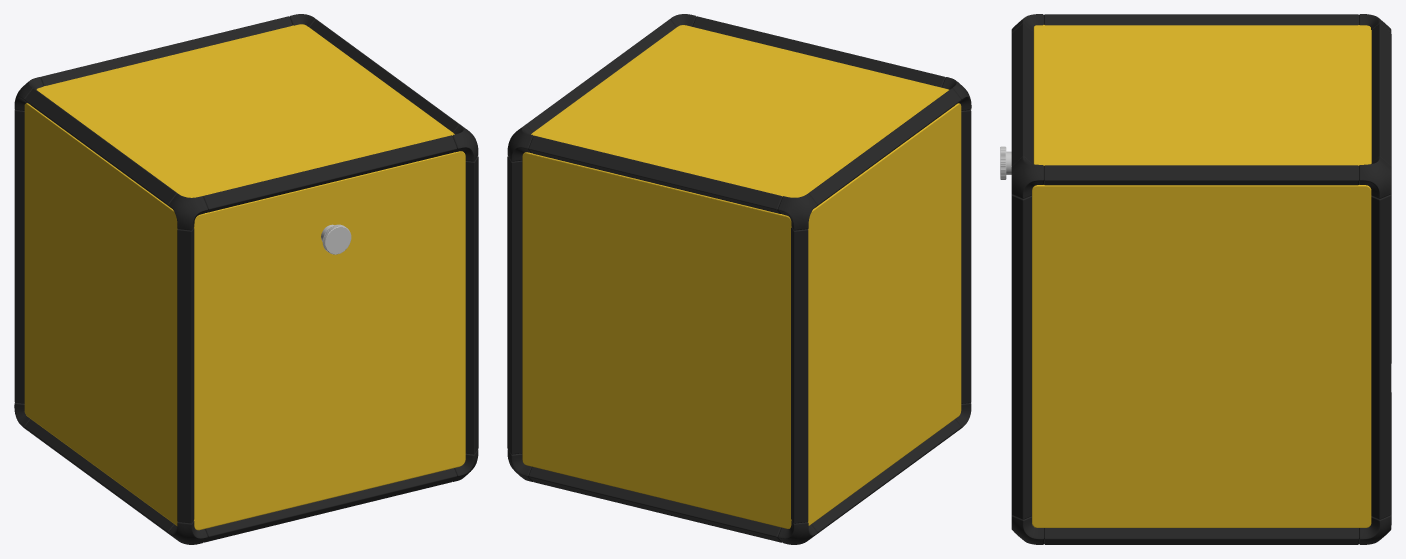
3 views of the same model, side by side, from view 1: azimuth 30°, elevation 25°; view 2: azimuth 150°, elevation 25°; view 3: azimuth 270°, elevation 25° (orthographic). The views are drawn at different scales.
Visible parts, largest first — view 1: 374x374x420; view 2: 374x374x420; view 3: 374x374x420.
Part boxes in pixels (bbox=[...]): 374x374x420: bbox=[14, 14, 478, 544]; 374x374x420: bbox=[507, 14, 971, 544]; 374x374x420: bbox=[1000, 14, 1391, 544].
Bounding box in the file's own units: 0.4517 × 0.4976 × 0.4646.
